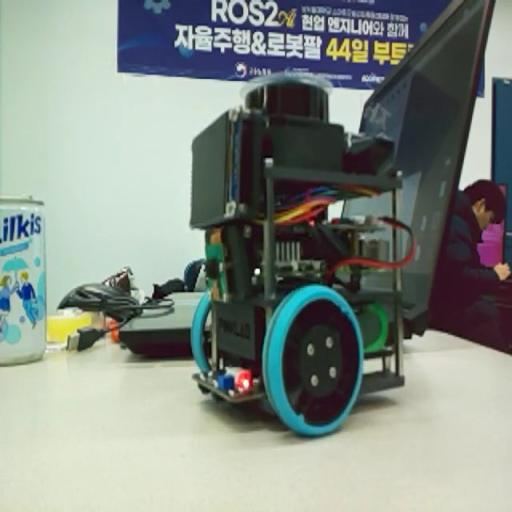pinky_63: (190, 73, 417, 442)
